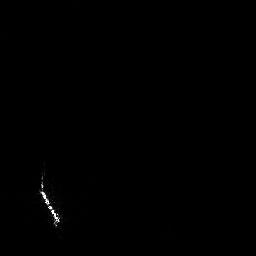ship: (36, 167, 64, 230)
